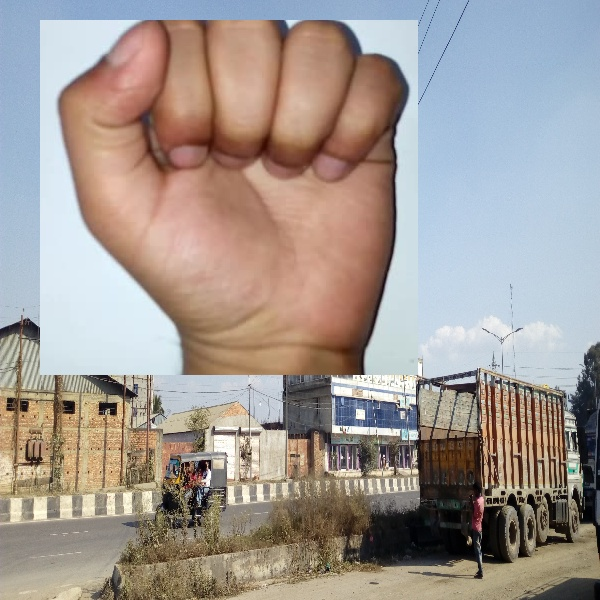A: (40, 20, 418, 375)
